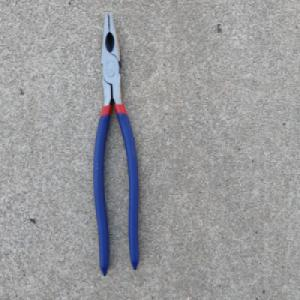Pliers: (92, 9, 141, 278)
